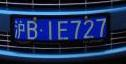2: (83, 20, 95, 39)
7: (70, 19, 81, 40), (95, 18, 106, 38)
B: (27, 20, 38, 40)
E: (57, 20, 69, 40)
I: (47, 19, 54, 41)
